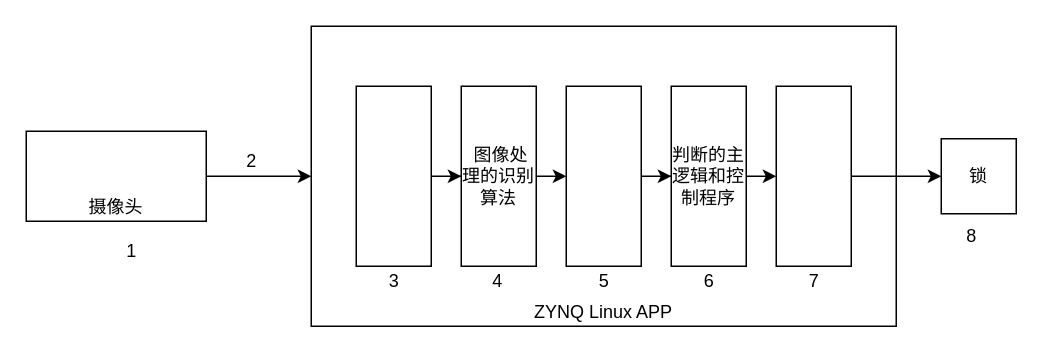
This 1043x353 diagram has some shape labels left out. Here are the shapes that lost their labels. From the top down, the centre of each, then its label:
At pixel 393 175: "通信程序驱动".
At pixel 603 175: "图像识别的参数调节".
At pixel 813 175: "锁驱动".
